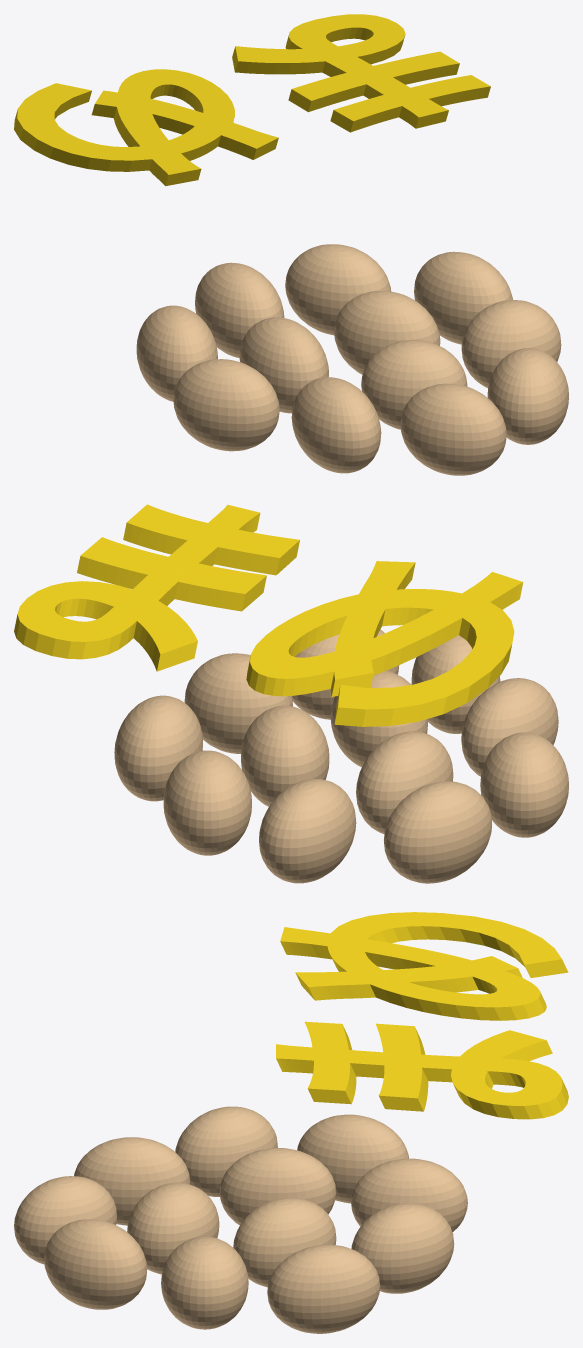
The model's file is tinker.obj.
3 views of the same model, one above another, from view 1: azimuth 30°, elevation 25°; view 2: azimuth 150°, elevation 25°; view 3: azimuth 270°, elevation 25° (orthographic). The views are drawn at different scales.
Parts seen in each view (by area): view 1: group_0_14860437, group_0_16768282; view 2: group_0_14860437, group_0_16768282; view 3: group_0_14860437, group_0_16768282.
Part boxes in pixels (left/top/right/bottom): group_0_14860437: left=136, top=244, right=568, bottom=475; group_0_16768282: left=14, top=14, right=490, bottom=186; group_0_14860437: left=114, top=629, right=568, bottom=883; group_0_16768282: left=14, top=504, right=523, bottom=726; group_0_14860437: left=14, top=1106, right=467, bottom=1333; group_0_16768282: left=276, top=912, right=568, bottom=1119.
Size of the model in its own units: 16.33 by 10.03 by 19.92.
